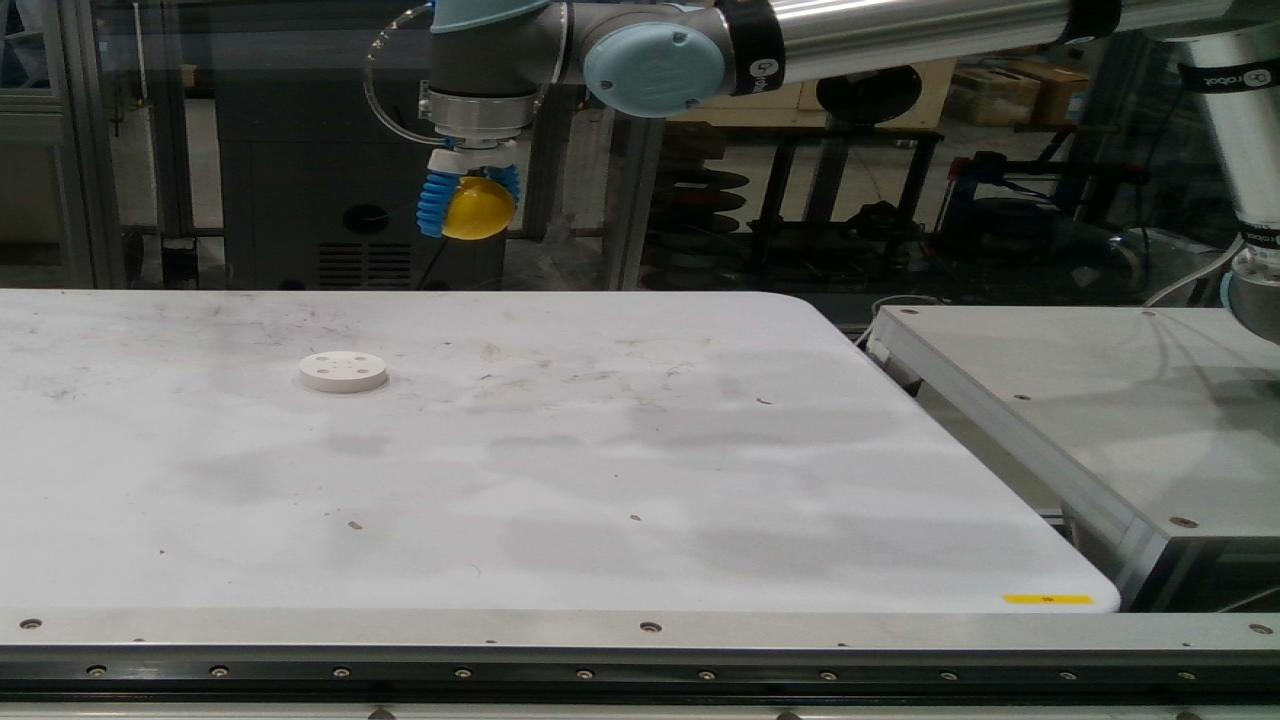UR5: (422, 0, 1279, 343)
gripper_left: (483, 163, 518, 199)
gripper_right: (416, 170, 466, 238)
target: (440, 177, 516, 240), (299, 351, 388, 394)
